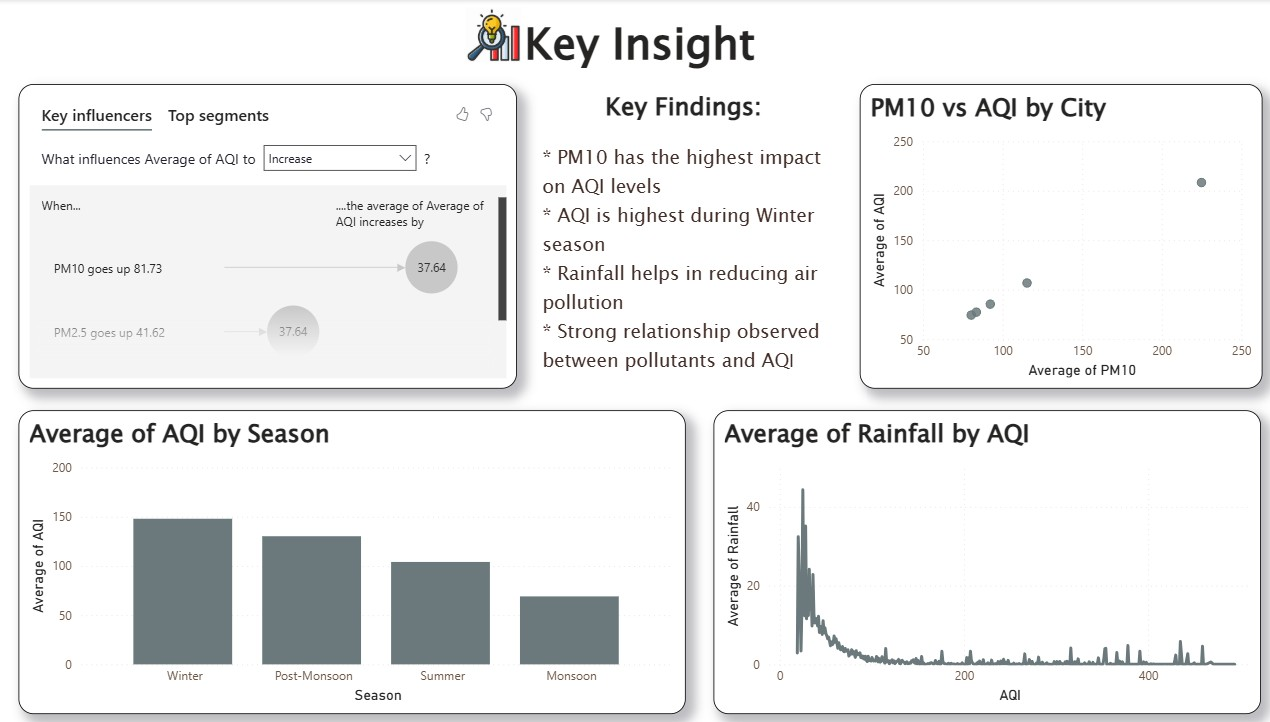

What the dashboard file says about the page in this screenshot:
{"tool":"powerbi","page":{"name":"Key Insight","canvas":[1280,720],"ordinal":2},"visuals":[{"type":"lineChart","fields":{"Category":["climatedata.AQI"],"Y":["Avg(climatedata.Rainfall)"]},"box":[713.8,408.8,545,302.5],"z":0},{"type":"textbox","box":[23,8.1,1236.5,77],"z":1000},{"type":"scatterChart","title":"PM10 vs  AQI by City","fields":{"X":["Avg(climatedata.PM10)"],"Y":["Avg(climatedata.AQI)"],"Category":["climatedata.City"]},"box":[859.6,84.6,400.6,303.5],"z":2000},{"type":"keyDriversVisual","fields":{"Target":["climatedata.AQI"],"ExplainBy":["climatedata.PM2.5","climatedata.Avg Temp","climatedata.Rainfall","climatedata.WindSpeed","climatedata.PM10"]},"box":[22.4,84.6,496.3,303.5],"z":3000},{"type":"clusteredColumnChart","fields":{"Y":["Avg(climatedata.AQI)"],"Category":["climatedata.Season"]},"box":[22.5,408.8,663.8,302.5],"z":4000},{"type":"image","box":[451.6,8.7,87.1,54.7],"z":5000},{"type":"textbox","box":[538.6,84.6,291.1,303.5],"z":6000}]}

Visuals, with their boxes in screenshot pixels (x1, y1, x2, y2), scaled from the page's 1280x720 canvas onto the 1270x722 screenshot:
lineChart - climatedata.AQI x Avg(climatedata.Rainfall): pyautogui.locateOnScreen(708, 410, 1249, 713)
textbox: pyautogui.locateOnScreen(23, 8, 1250, 85)
"PM10 vs  AQI by City" scatterChart: pyautogui.locateOnScreen(853, 85, 1250, 389)
keyDriversVisual - climatedata.AQI x climatedata.PM2.5: pyautogui.locateOnScreen(22, 85, 515, 389)
clusteredColumnChart - Avg(climatedata.AQI) x climatedata.Season: pyautogui.locateOnScreen(22, 410, 681, 713)
image: pyautogui.locateOnScreen(448, 9, 534, 64)
textbox: pyautogui.locateOnScreen(534, 85, 823, 389)
